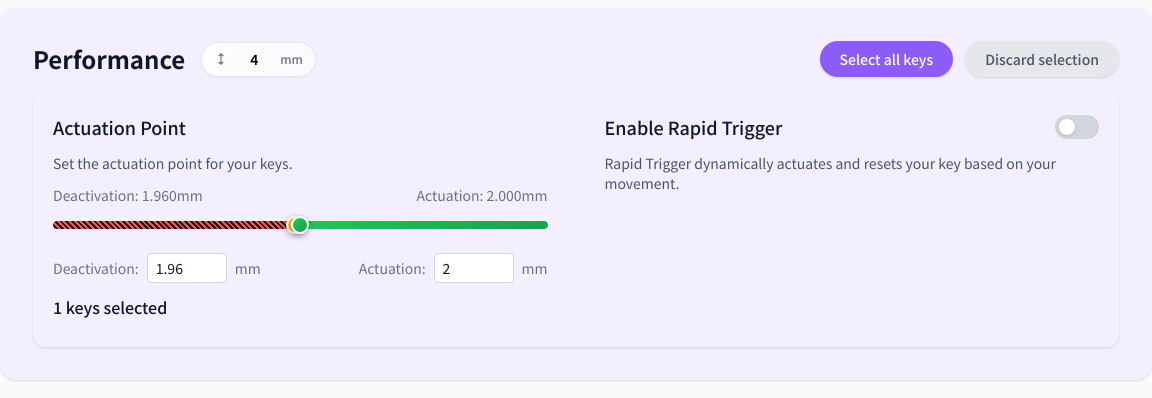
Test: PerformancePage › editing › clamps the points to the switch travel and applies them
Step 1. Replace the text in the field named "Switch Travel Distance" with "1" → x=254, y=59, box [234,48,274,70]
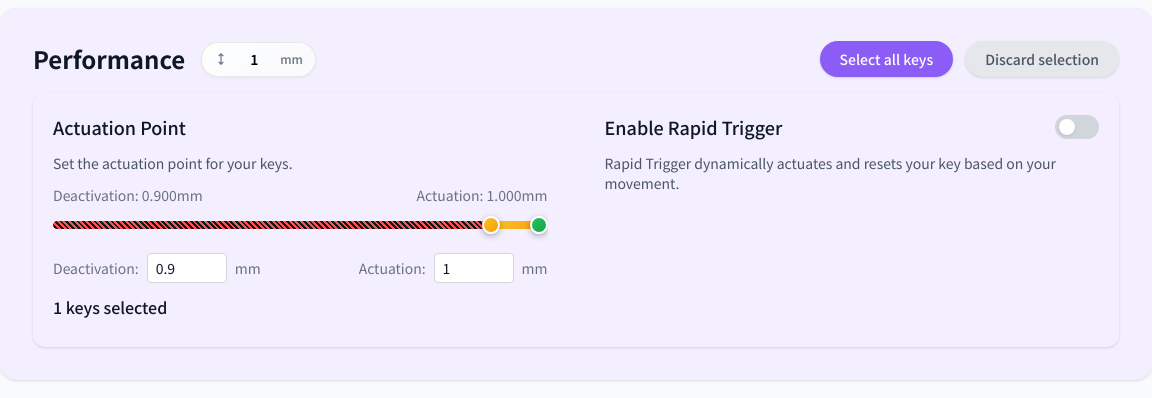
Check: the text "Actuation: 1.000mm" is shown, box [416,185,548,205]
Check: the text "Deactivation: 0.900mm" is shown, box [53,185,203,205]
